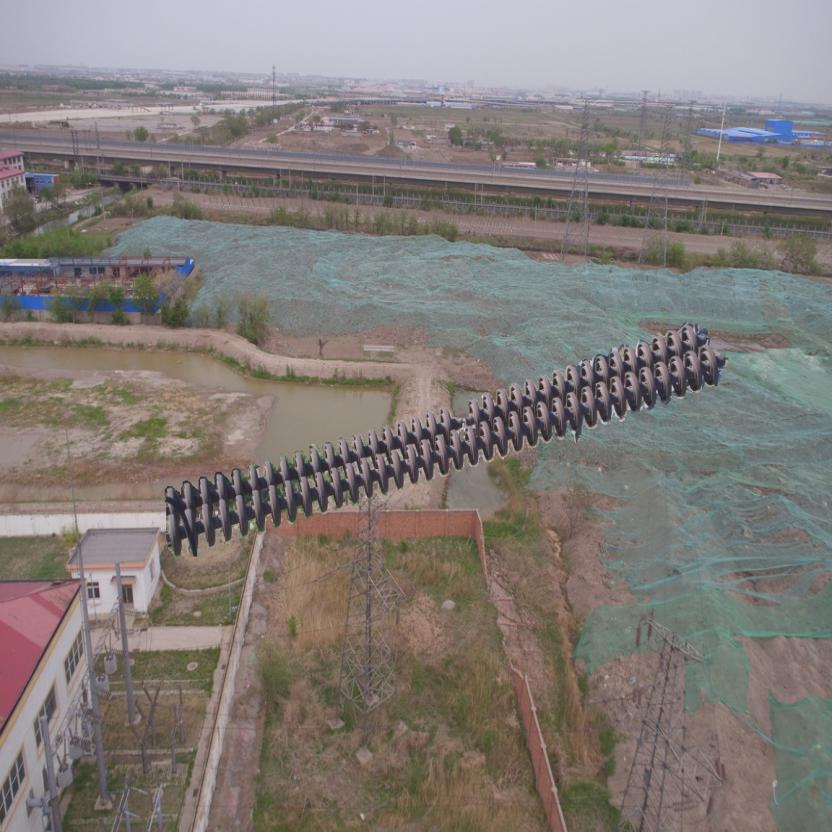defect: (436, 396, 481, 436)
